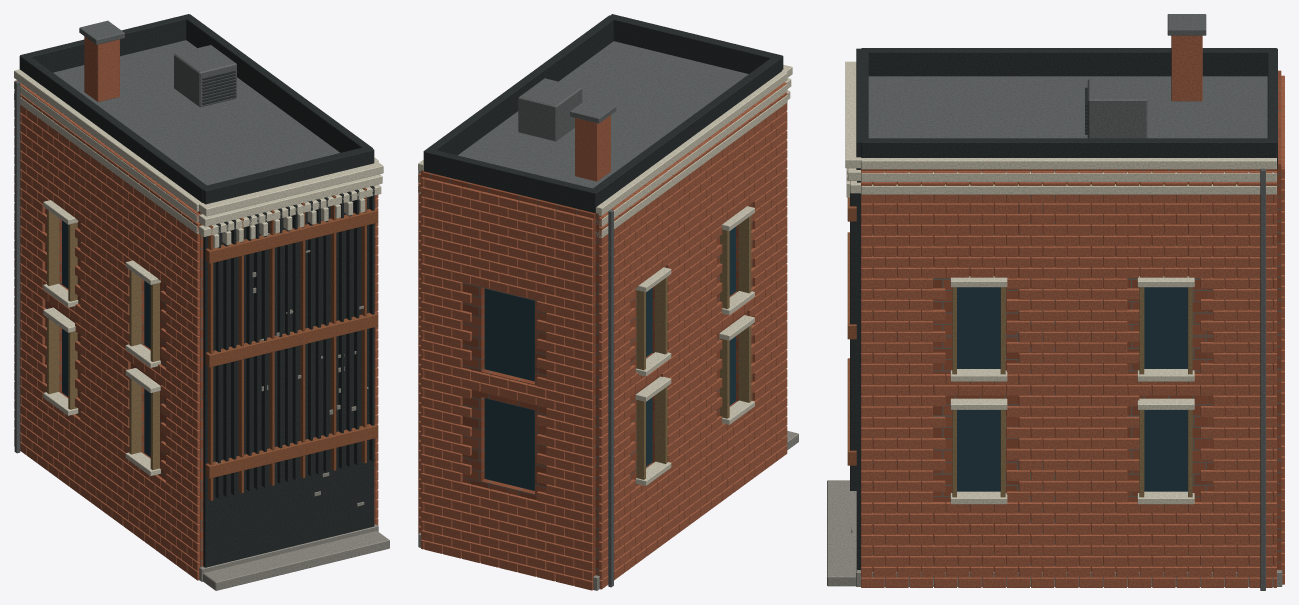
Rendered from WHSE11_lod0.glb.
3 renders of one model, left to right at view 1: azimuth 30°, elevation 25°; view 2: azimuth 150°, elevation 25°; view 3: azimuth 270°, elevation 25°, orthographic. The views are drawn at different scales.
Parts seen in each view (by area): view 1: WHSE11_LOD0; view 2: WHSE11_LOD0; view 3: WHSE11_LOD0.
Boxes of the visible parts, box(x1,y1,x2,y2) form: WHSE11_LOD0: box(14, 14, 389, 590); WHSE11_LOD0: box(418, 14, 798, 590); WHSE11_LOD0: box(827, 14, 1284, 590).
Bounding box in the file's own units: 3.71 × 7.85 × 6.6.
11 materials, 10 textured.
